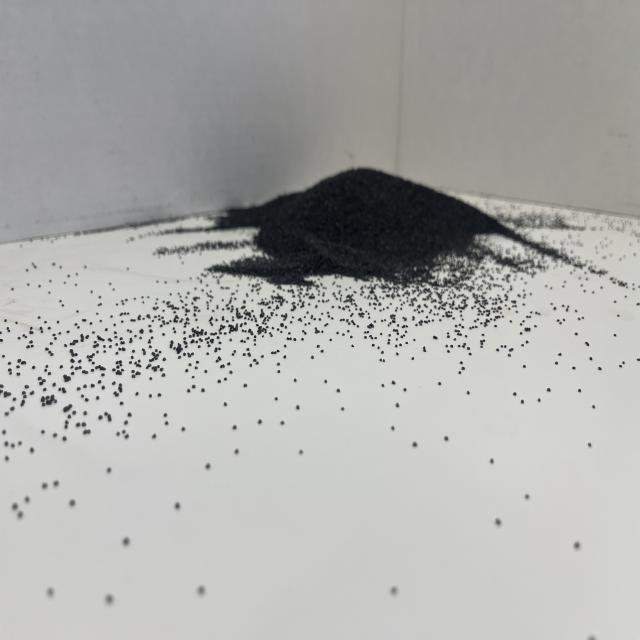Poppy Seeds: (212, 127, 558, 319)
